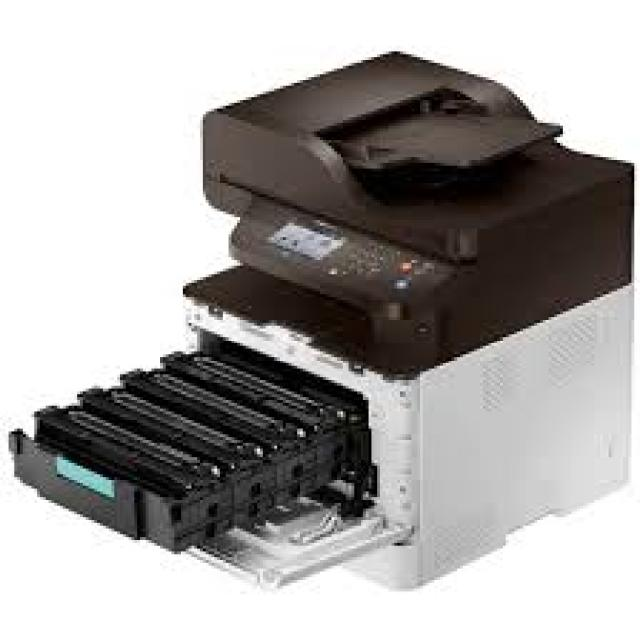printer: (11, 49, 634, 595)
